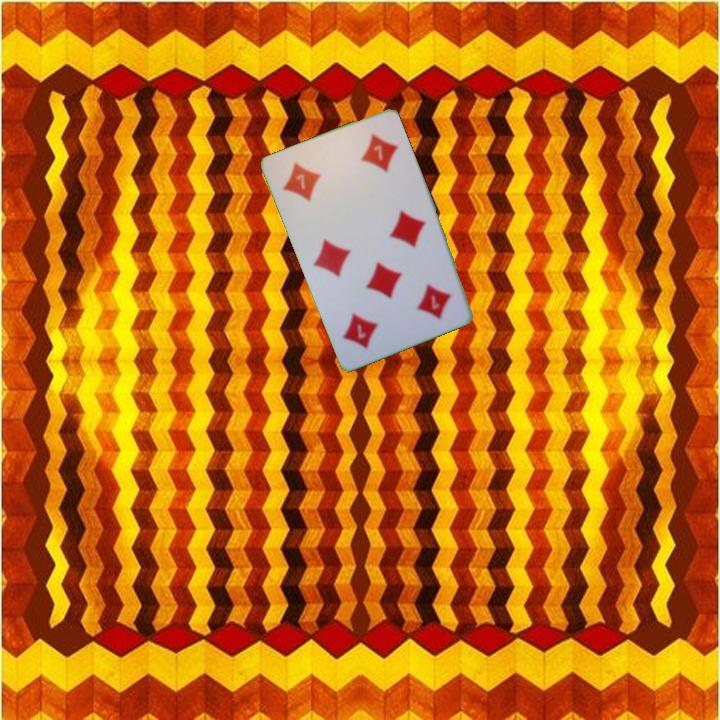d_7.png: (271, 141, 353, 218), (385, 261, 467, 337)
